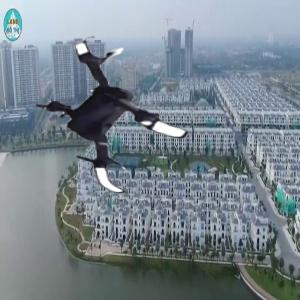drone: (19, 24, 194, 199)
